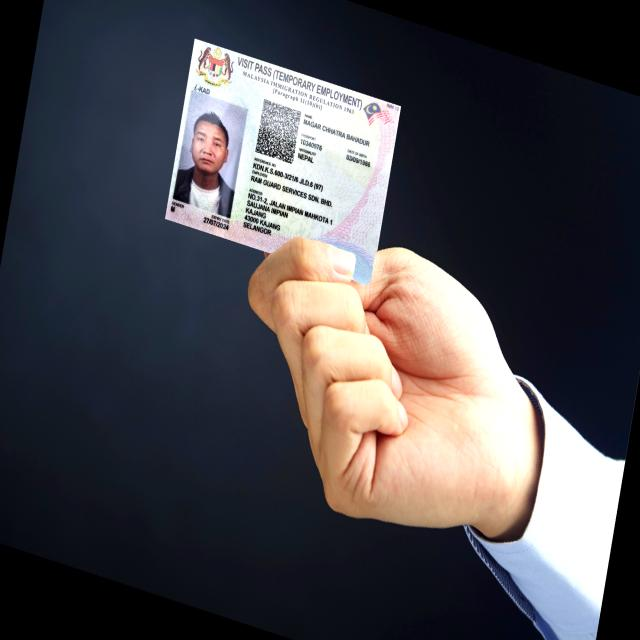ikad-temp: (164, 37, 402, 285)
